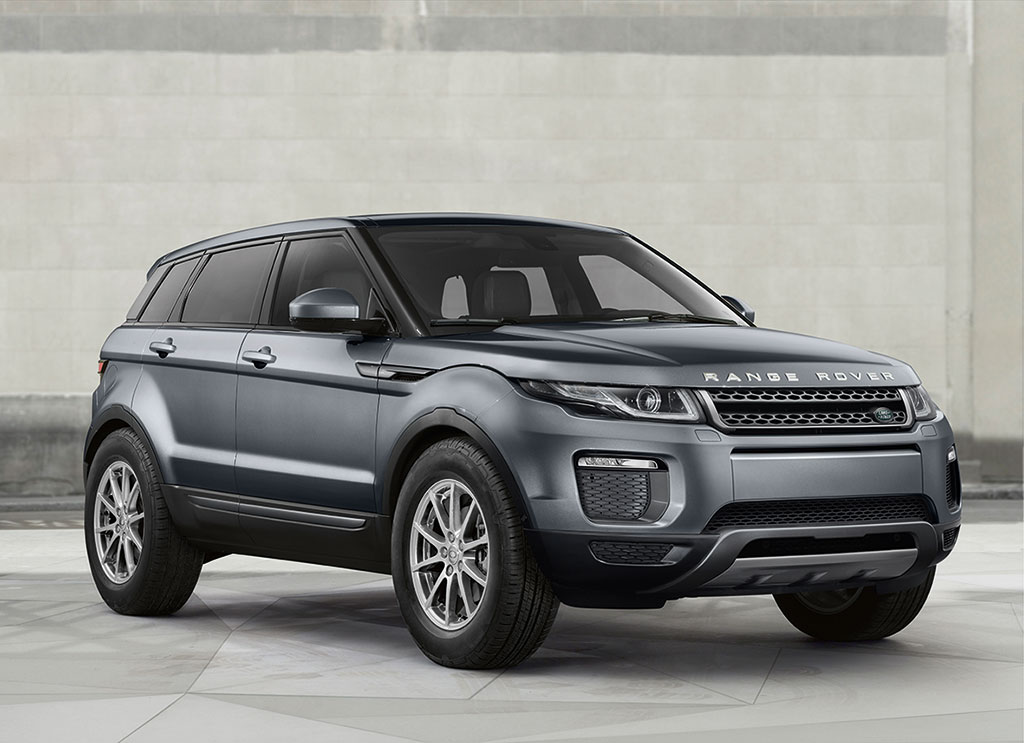pickup: (79, 203, 968, 677)
